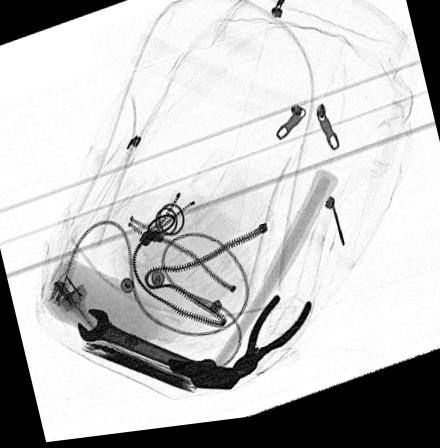Hammer: (166, 177, 340, 395)
Pliers: (233, 300, 313, 385)
Powerbank: (80, 344, 196, 397)
Wrench: (78, 310, 218, 394)
